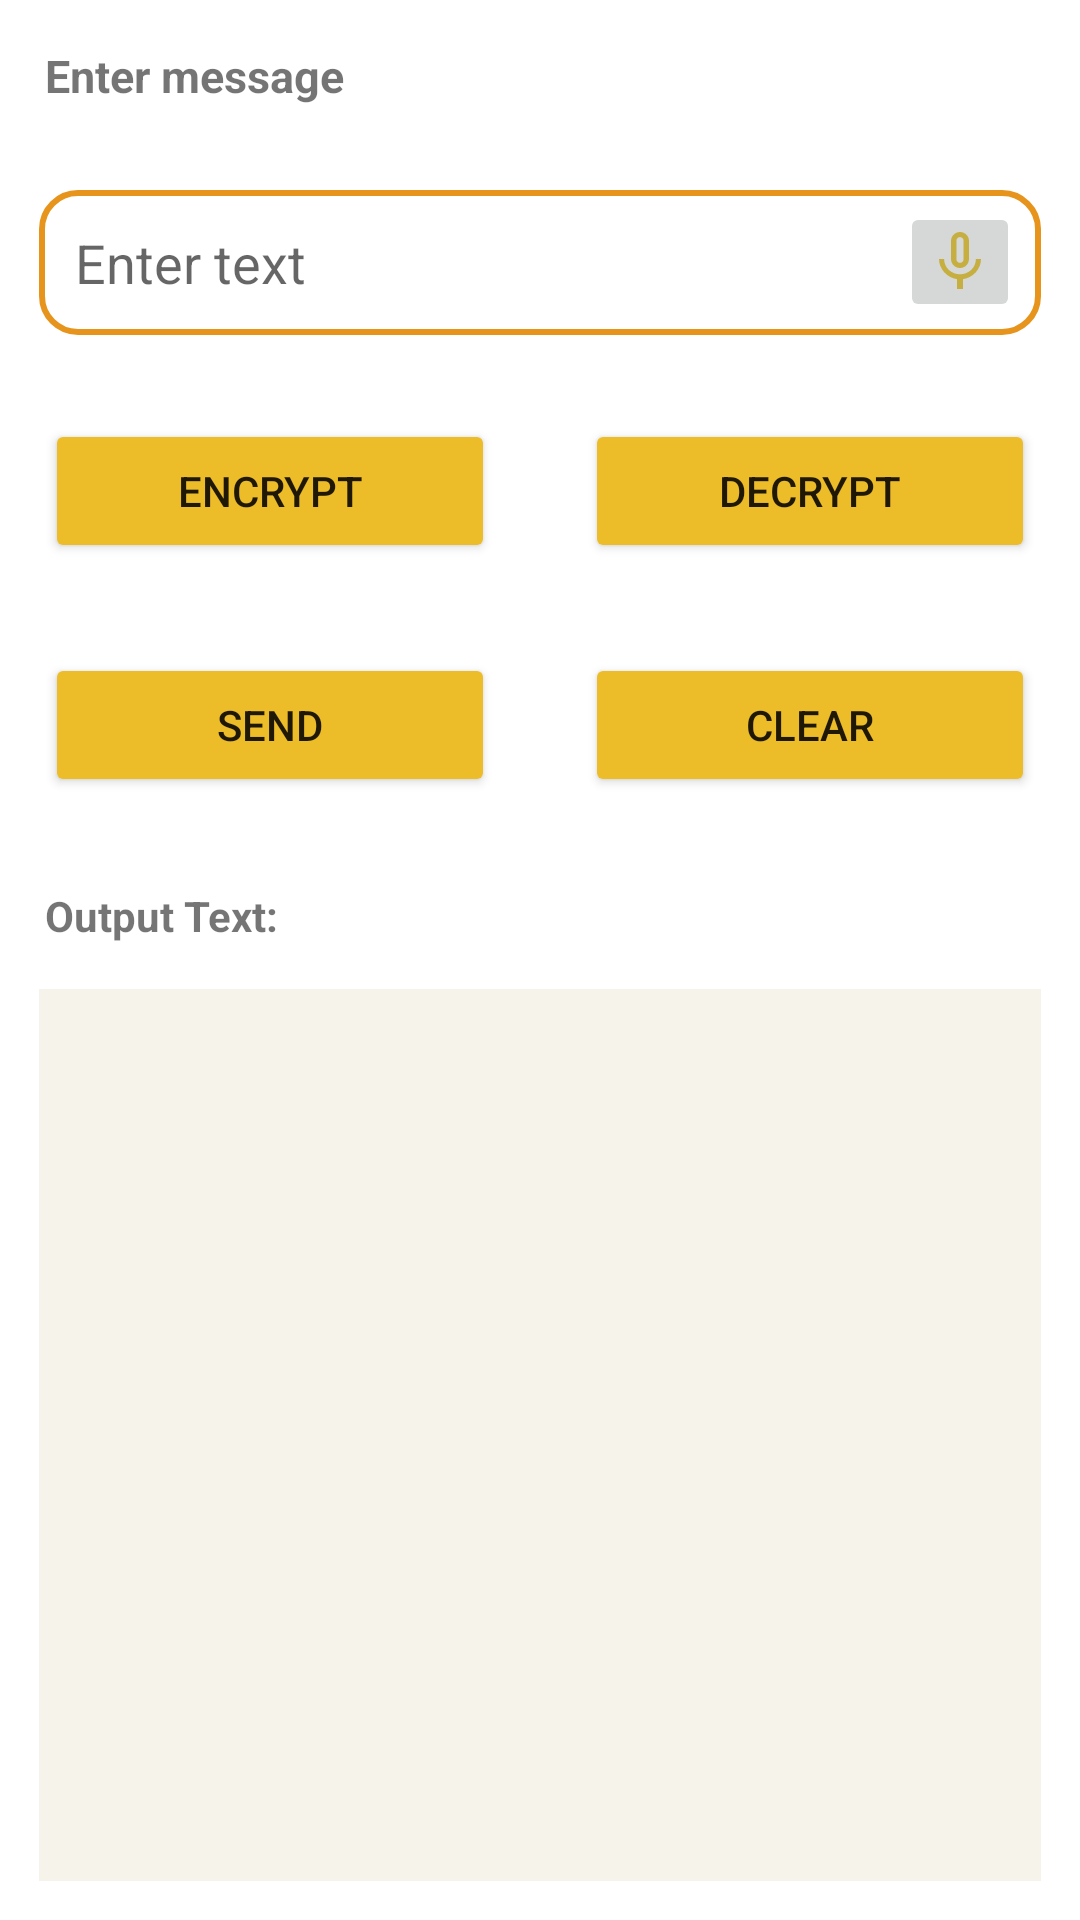

Locate icon controls on the screen. Image size 1080 × 1920, boxes as (x1, y1, x2, y2).
mic none: (912, 220, 1008, 304)
